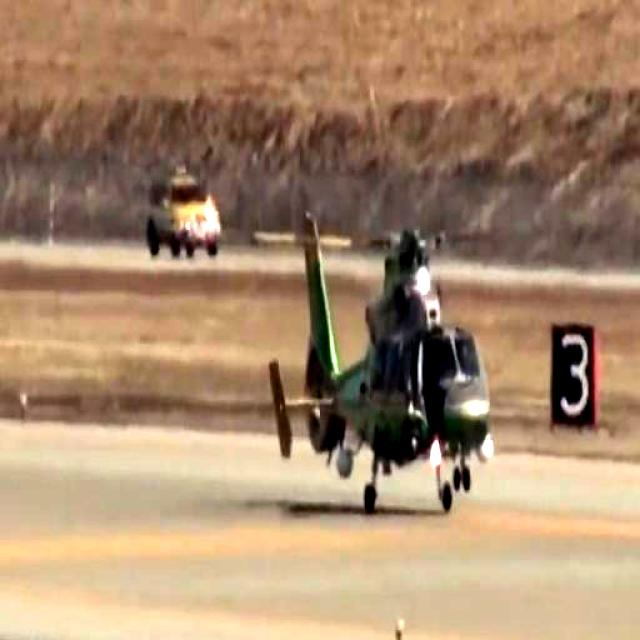drone: (271, 199, 495, 516)
